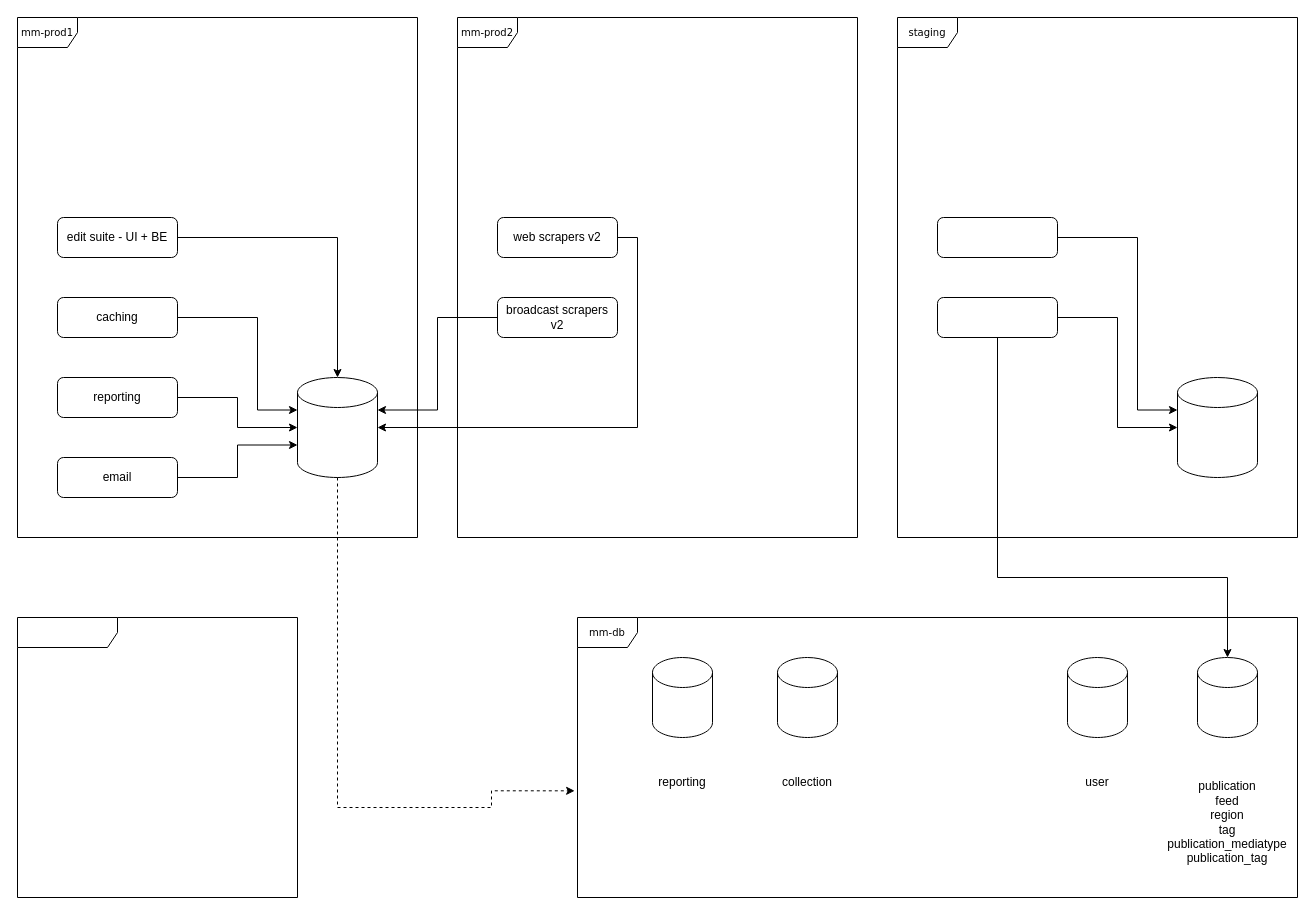
Some shapes in this 1315 by 915 pixel diagram are drawn without their labels. Each missing label, with the centre of its shape:
"journalist directory - BE" belongs at pixel 997 317.
"journalist directory - UI" belongs at pixel 997 237.
"mediamine db" belongs at pixel 1217 427.
"mediamine-legacy db" belongs at pixel 337 427.
"mm-logging/metrics" belongs at pixel 157 757.
